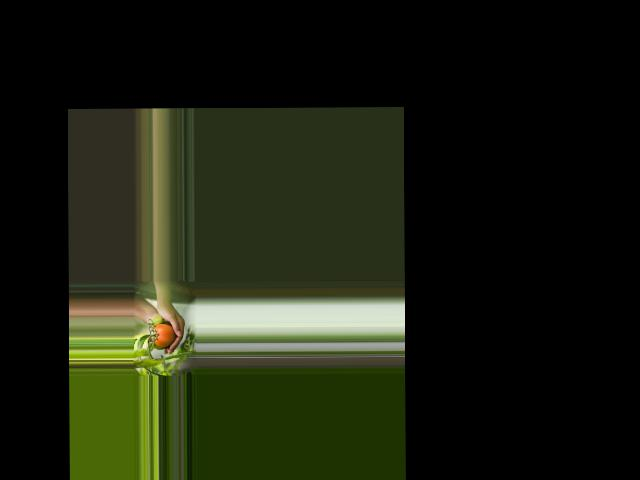tomato: (151, 323, 175, 346)
